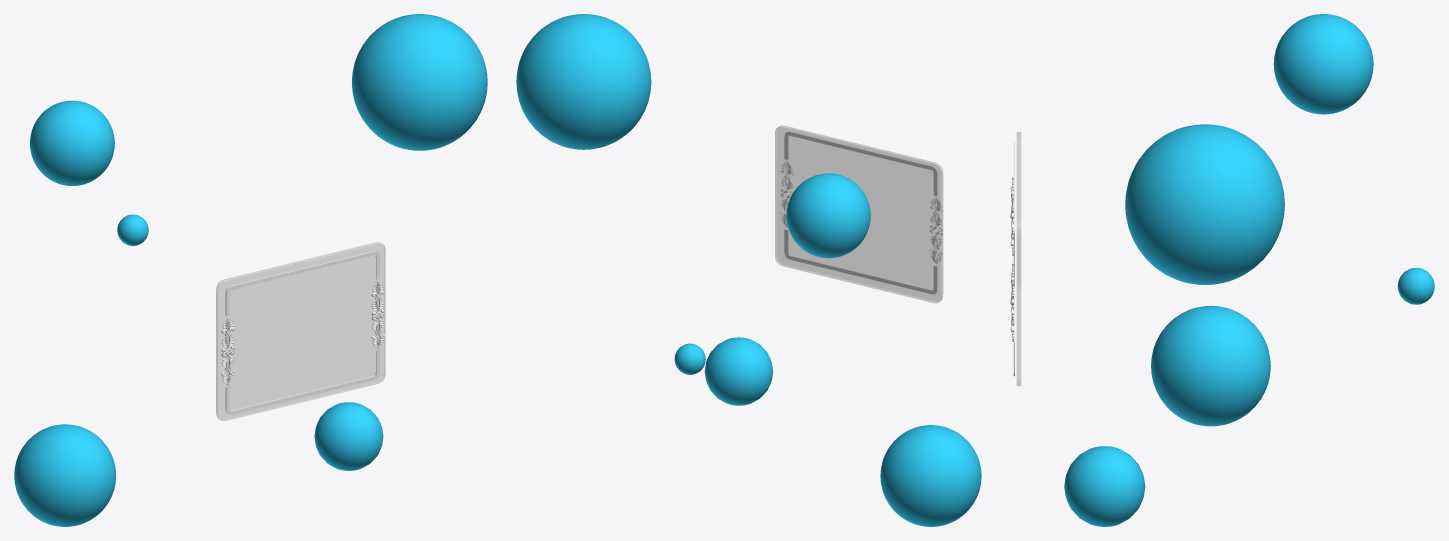
File: VideoPlayerStage (2).glb
3 renders of one model, left to right at view 1: azimuth 30°, elevation 25°; view 2: azimuth 150°, elevation 25°; view 3: azimuth 270°, elevation 25°, orthographic. The views are drawn at different scales.
Parts seen in each view (by area): view 1: Mirror, Bubble001, Bubble003, Bubble002, Bubble004, MirrorFrame, Bubble005; view 2: Mirror, Bubble001, Bubble003, Bubble002, Bubble004, MirrorFrame, Bubble005; view 3: Bubble001, Bubble003, Bubble002, Bubble004, Mirror, Bubble005, MirrorFrame.
Part boxes in pixels (x1,y1,x2,y2): Mirror: (216,242,385,420); Bubble001: (351,14,487,150); Bubble003: (14,424,116,526); Bubble002: (30,100,114,185); Bubble004: (314,402,383,470); MirrorFrame: (221,251,385,414); Bubble005: (117,214,148,245); Mirror: (775,125,943,303); Bubble001: (516,14,651,149); Bubble003: (880,425,981,526); Bubble002: (786,173,870,258); Bubble004: (704,337,773,405); MirrorFrame: (780,131,943,294); Bubble005: (674,343,705,374); Bubble001: (1125,124,1284,284); Bubble003: (1151,305,1270,426); Bubble002: (1273,14,1373,114); Bubble004: (1064,446,1145,526); Mirror: (1016,132,1021,386); Bubble005: (1397,267,1434,304); MirrorFrame: (1010,142,1014,376).
Size of the model in its own units: 1.22 by 1.07 by 0.8357.
